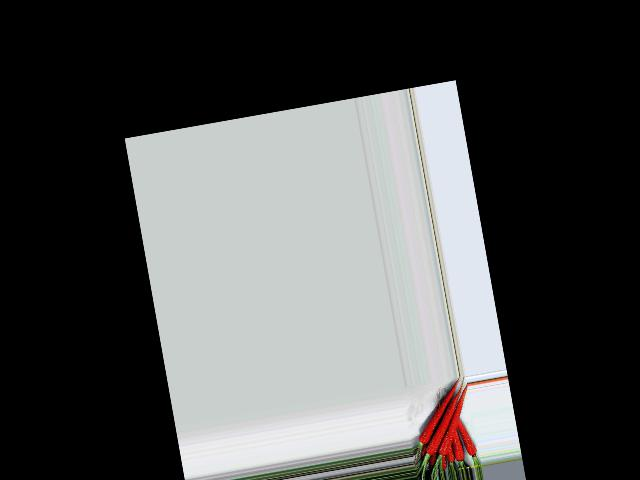carrot: (454, 415, 479, 458)
